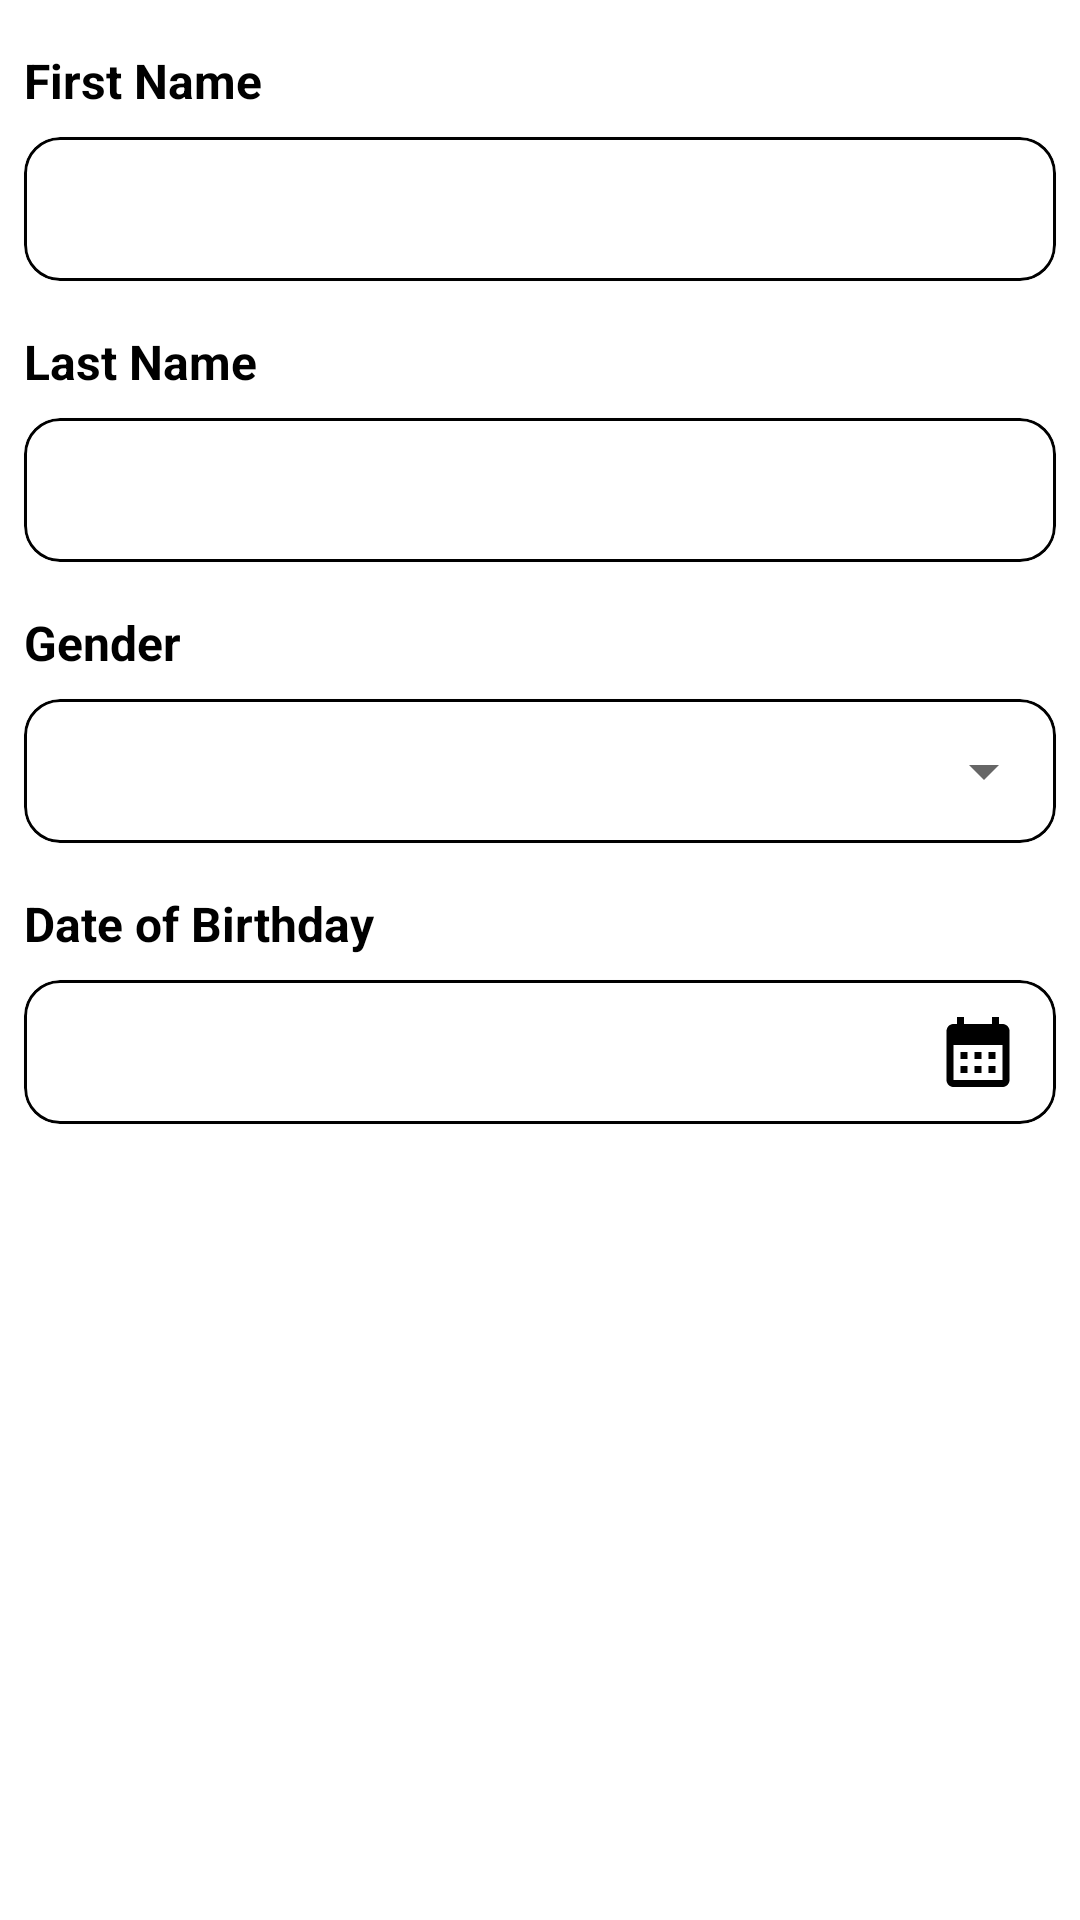

Icons on this 1080 x 1920 Android screen, each with its box as (x1, y1, x2, y2):
calendar: (946, 1017, 1010, 1087)
